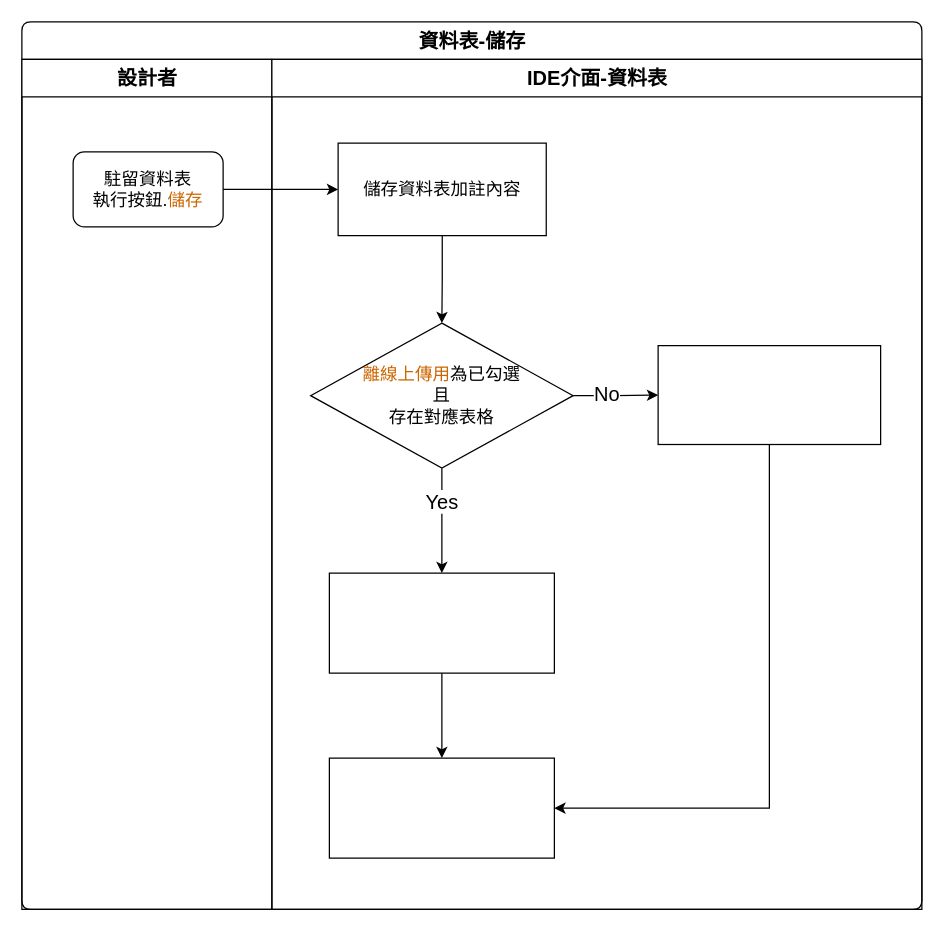
The diagram is 944 pixels wide and 931 high, and some of its shapes have lost their labels. The shapes that lost their labels are listed below. From the top down, each one's centre as x and y in pixels, then its label:
At pixel 769 394: "依加註內容 新增離線上傳用的資料表".
At pixel 441 622: "依本次異動欄位結構 增修資料表欄位清單內容".
At pixel 441 807: "儲存完成 畫面回到瀏覽模式".
